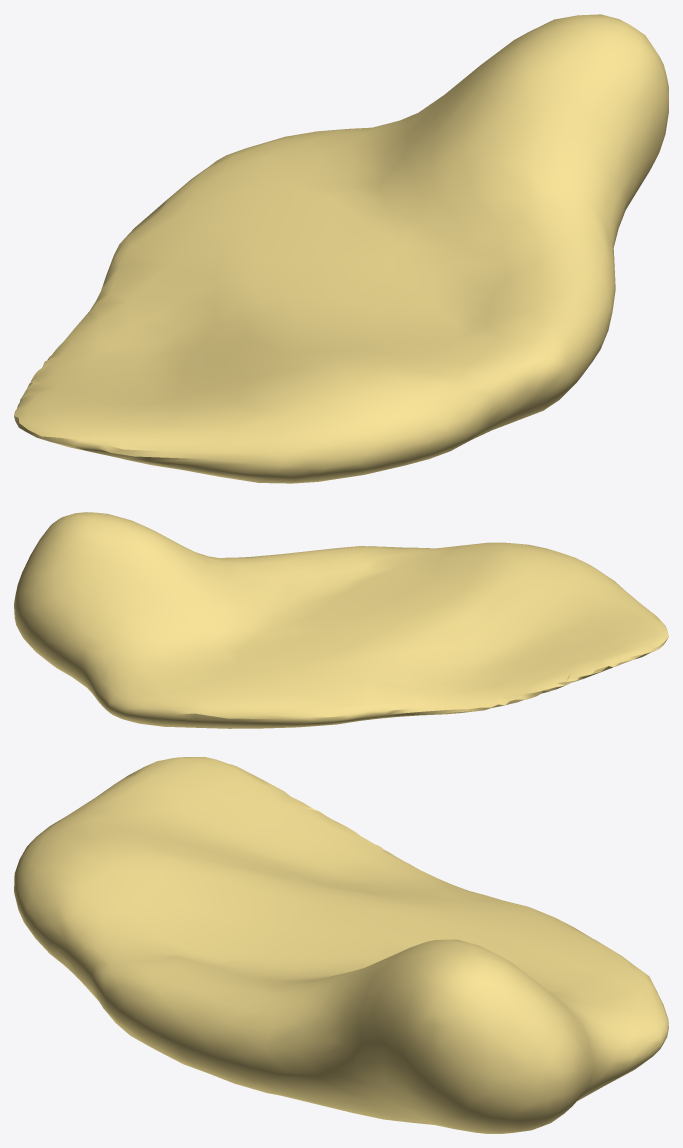
File: fma72843_mm3010.glb
3 renders of one model, top to bottom at view 1: azimuth 30°, elevation 25°; view 2: azimuth 150°, elevation 25°; view 3: azimuth 270°, elevation 25°, orthographic. The views are drawn at different scales.
Visible parts, largest first — view 1: FMA72843_MM3010; view 2: FMA72843_MM3010; view 3: FMA72843_MM3010.
Boxes of the visible parts, left/top/right/bottom form: FMA72843_MM3010: left=14, top=14, right=668, bottom=483; FMA72843_MM3010: left=14, top=512, right=668, bottom=728; FMA72843_MM3010: left=14, top=757, right=668, bottom=1133.
Bounding box in the file's own units: 0.00843 × 0.00253 × 0.00676.
